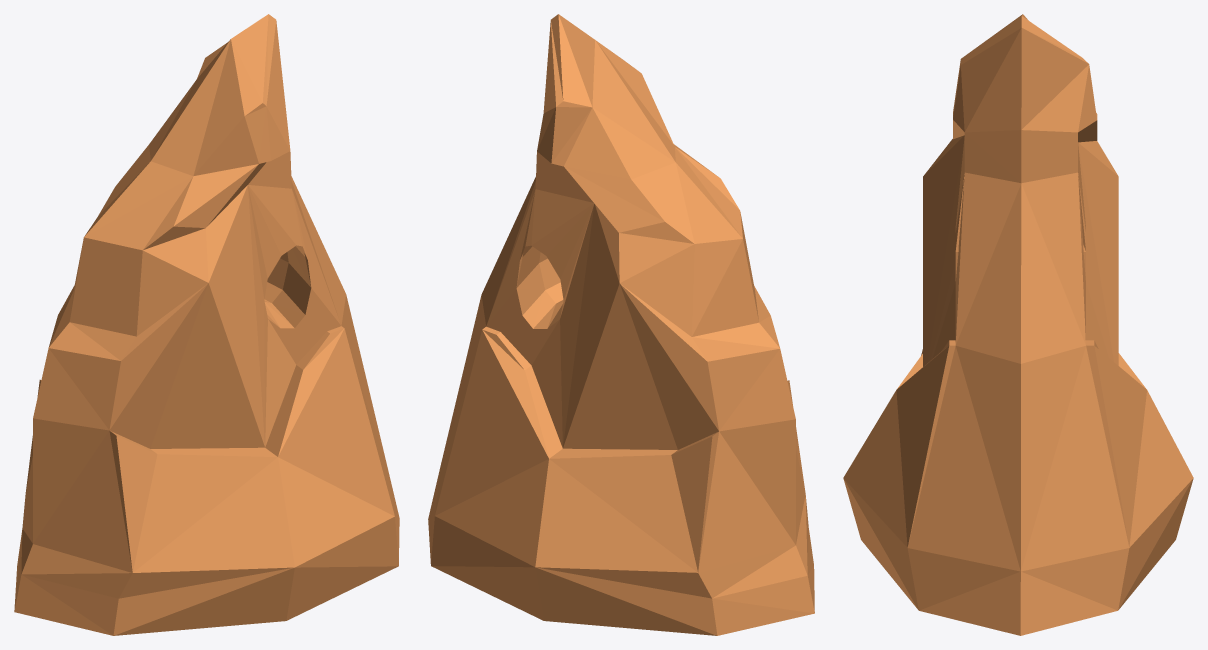
Rendered from Rock_Large_Canyon_Eroded_03.FBX.
3 views of the same model, side by side, from view 1: azimuth 30°, elevation 25°; view 2: azimuth 150°, elevation 25°; view 3: azimuth 270°, elevation 25° (orthographic). The views are drawn at different scales.
Parts seen in each view (by area): view 1: Rock_Large_Canyon_Eroded_03; view 2: Rock_Large_Canyon_Eroded_03; view 3: Rock_Large_Canyon_Eroded_03.
Part boxes in pixels (bbox=[...]): Rock_Large_Canyon_Eroded_03: bbox=[14, 14, 399, 635]; Rock_Large_Canyon_Eroded_03: bbox=[428, 14, 814, 635]; Rock_Large_Canyon_Eroded_03: bbox=[843, 14, 1193, 635].
Bounding box in the file's own units: 9235 × 12267 × 7031.
